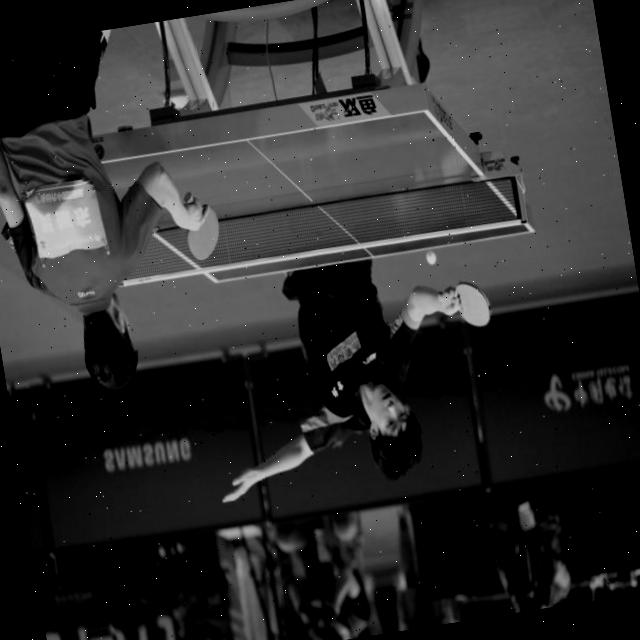ping-pong-ball: (424, 247, 439, 269)
